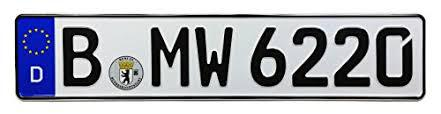0: (374, 25, 413, 90)
2: (332, 23, 373, 88), (290, 25, 330, 90)
6: (247, 24, 288, 89)
B: (60, 25, 105, 88)
M: (148, 24, 192, 88)
W: (194, 23, 234, 88)
